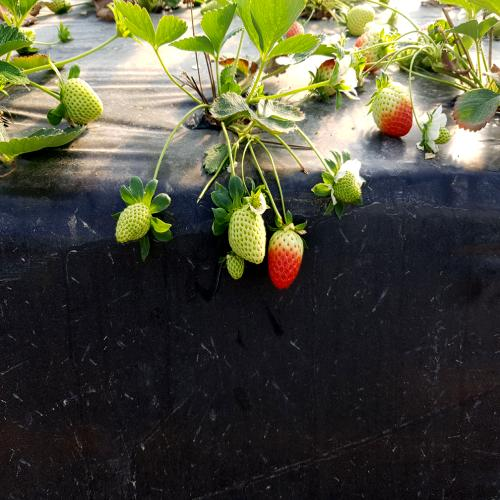partially-ripe: (368, 65, 413, 149), (266, 211, 304, 304)
